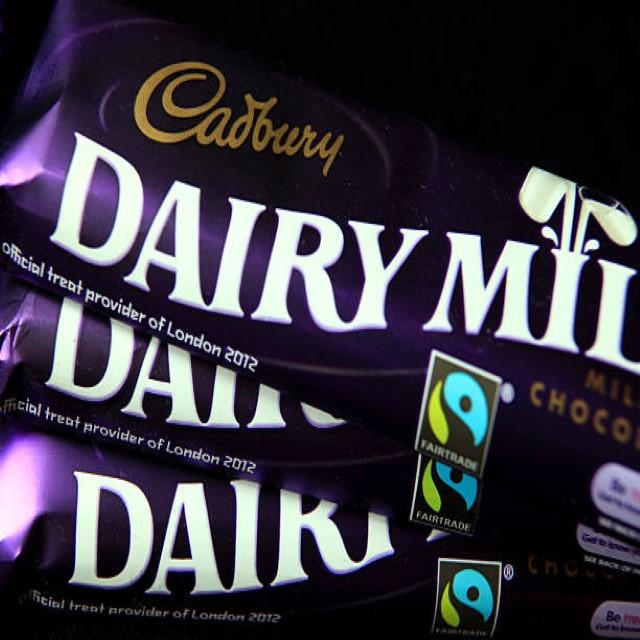cadbury_chocolate: (0, 0, 640, 518), (10, 250, 623, 587), (5, 432, 640, 637)
